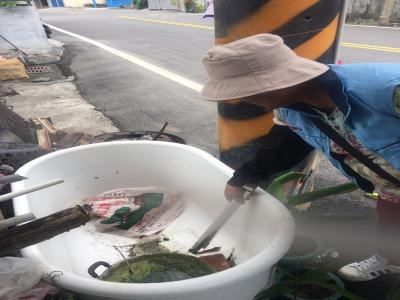tub: (8, 135, 300, 299)
